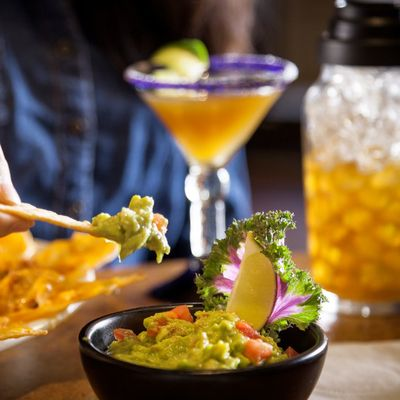sushi: (77, 303, 324, 400)
